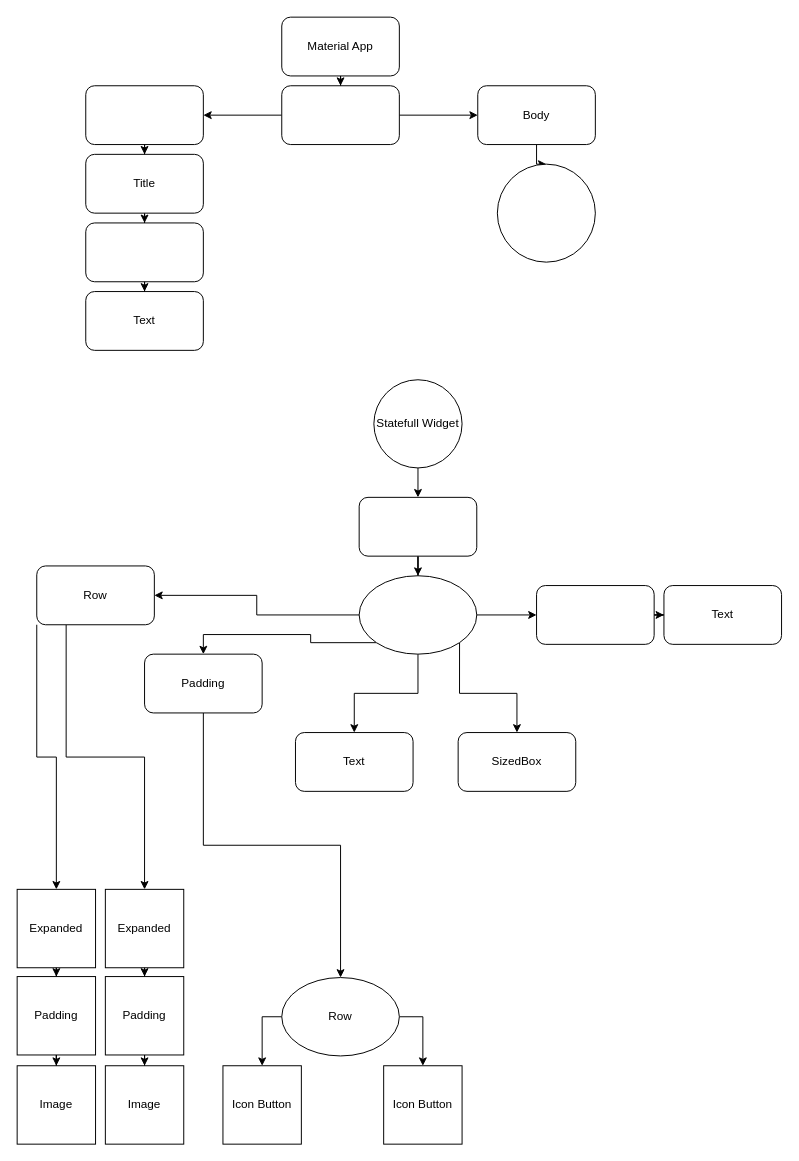
The diagram is 799 pixels wide and 1161 high, and some of its shapes have lost their labels. The centre of each missing label's shape, as x and y in pixels:
"Align" goes at (x=595, y=614).
"AppBar" goes at (x=144, y=115).
"Center" goes at (x=144, y=252).
"Column" goes at (x=417, y=614).
"DicePage() [StateFull Widget]" goes at (x=545, y=212).
"SafeArea" goes at (x=417, y=526).
"Scaffold" goes at (x=340, y=115).
